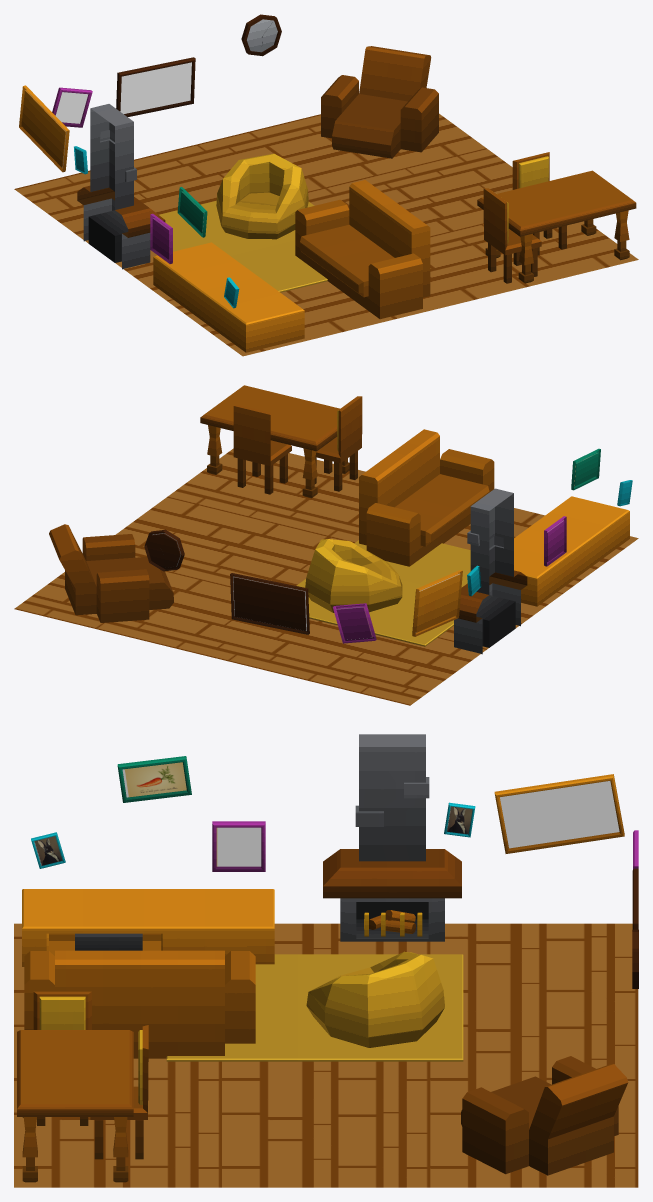
Rendered from s1_Living_v3.fbx.
3 renders of one model, top to bottom at view 1: azimuth 30°, elevation 25°; view 2: azimuth 150°, elevation 25°; view 3: azimuth 270°, elevation 25°, orthographic. The views are drawn at different scales.
Visible parts, largest first — view 1: s1_Living_v3; view 2: s1_Living_v3; view 3: s1_Living_v3.
Boxes of the visible parts, x1=… form: s1_Living_v3: x1=14, y1=14, x2=638, y2=356; s1_Living_v3: x1=14, y1=385, x2=638, y2=705; s1_Living_v3: x1=14, y1=734, x2=638, y2=1187.
Size of the model in its own units: 905 by 300 by 901.
